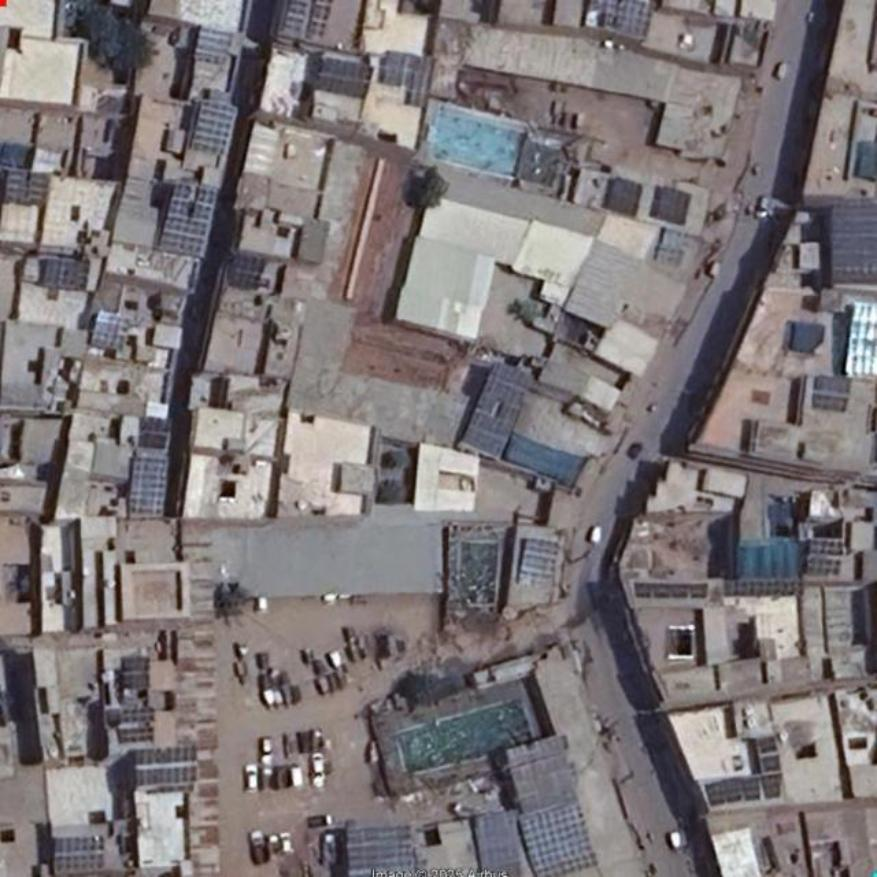Solarpanel: (461, 363, 531, 459), (516, 797, 599, 876), (156, 180, 222, 258), (833, 200, 876, 285), (349, 825, 412, 876), (130, 456, 171, 517), (190, 100, 234, 154), (844, 304, 876, 376), (709, 773, 781, 805), (317, 56, 373, 97), (587, 0, 650, 36), (134, 749, 194, 785), (514, 540, 558, 587), (279, 0, 333, 36), (55, 839, 104, 876), (6, 172, 51, 209), (196, 25, 235, 63), (813, 377, 852, 411), (43, 258, 87, 288), (807, 538, 842, 573), (121, 708, 154, 744), (631, 581, 706, 596), (728, 580, 797, 595), (760, 732, 780, 771)
